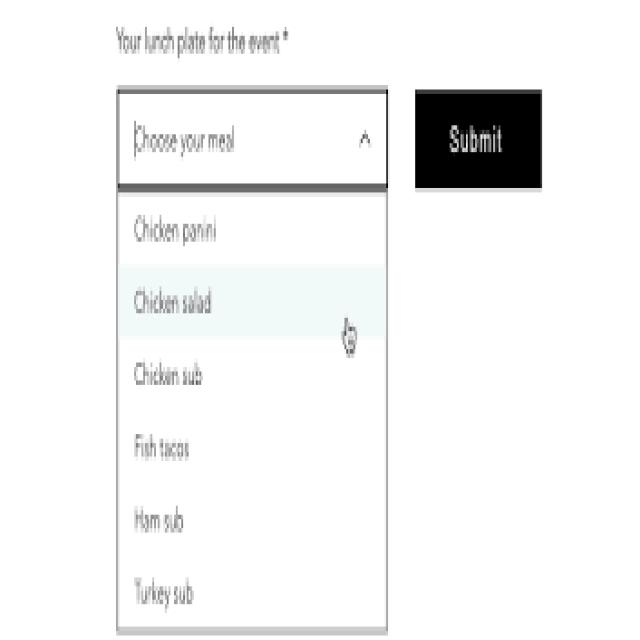buttons: (420, 90, 540, 185)
dropdown: (358, 114, 371, 157)
input-fields: (117, 96, 385, 182)
